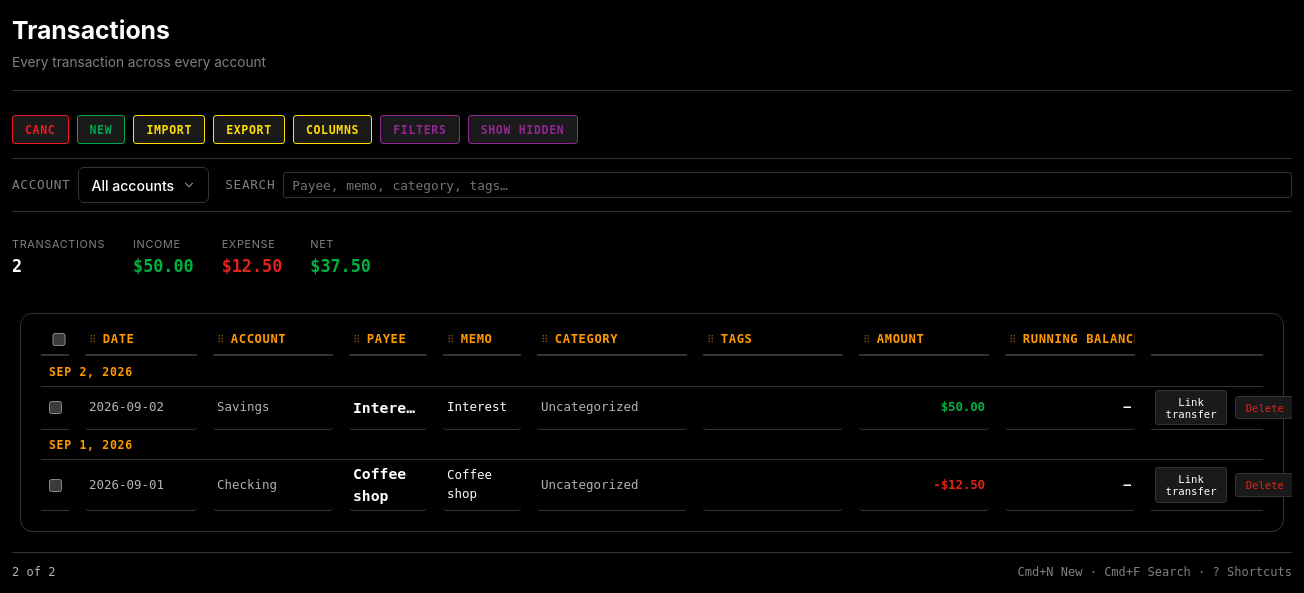
it: AllTransactionsScreen › narrows to a single Account via the filter, hiding the Account column once only one Account remains
This screenshot has width=1304, height=593.
Select "Checking" in the dropdown named "Filter by account" at (111,185), box [12,167,209,203]
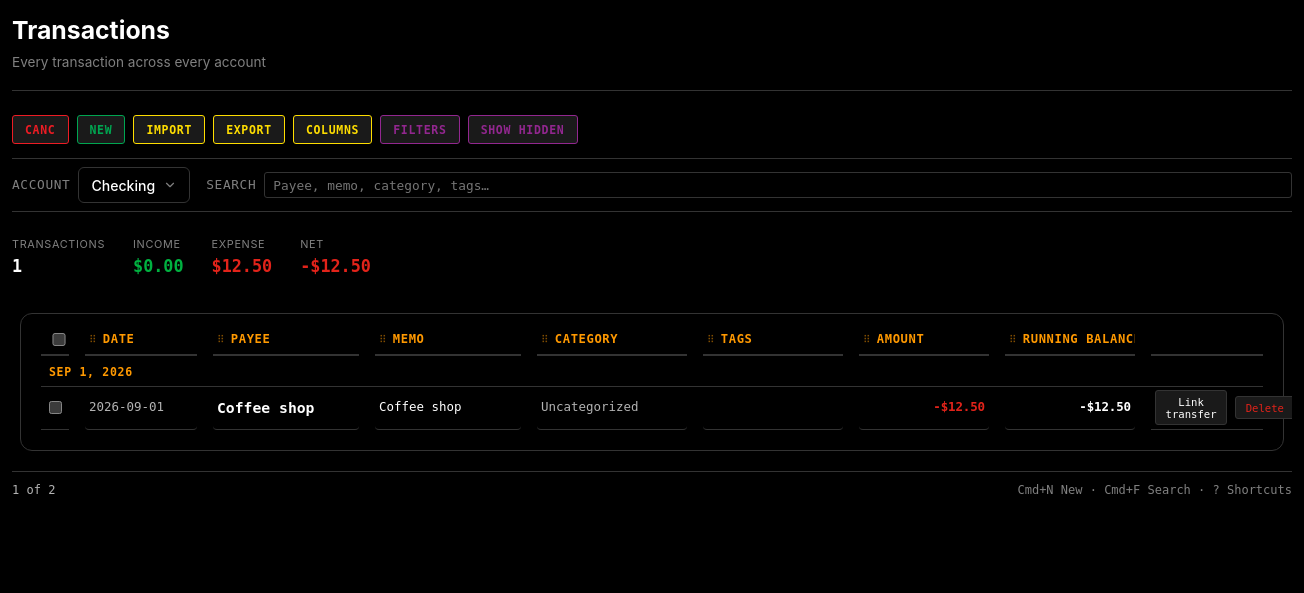
Expected: the 2nd text "Coffee shop" is shown, [375,387,521,430]
Expected: the text "Interest" is gone
